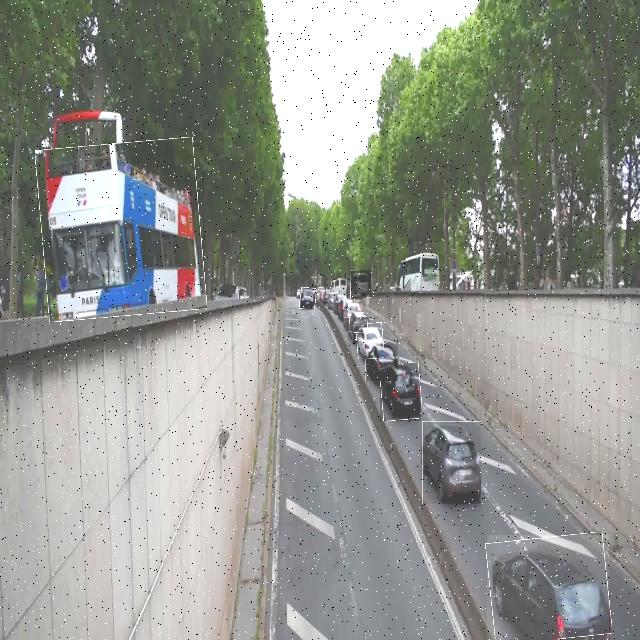Bus: (38, 141, 204, 319), (395, 254, 445, 298), (350, 270, 371, 298)
Car: (487, 535, 609, 640), (422, 421, 481, 504), (380, 363, 421, 421), (365, 341, 398, 381), (357, 322, 383, 358), (350, 313, 368, 333), (344, 300, 362, 318), (300, 288, 315, 309)
